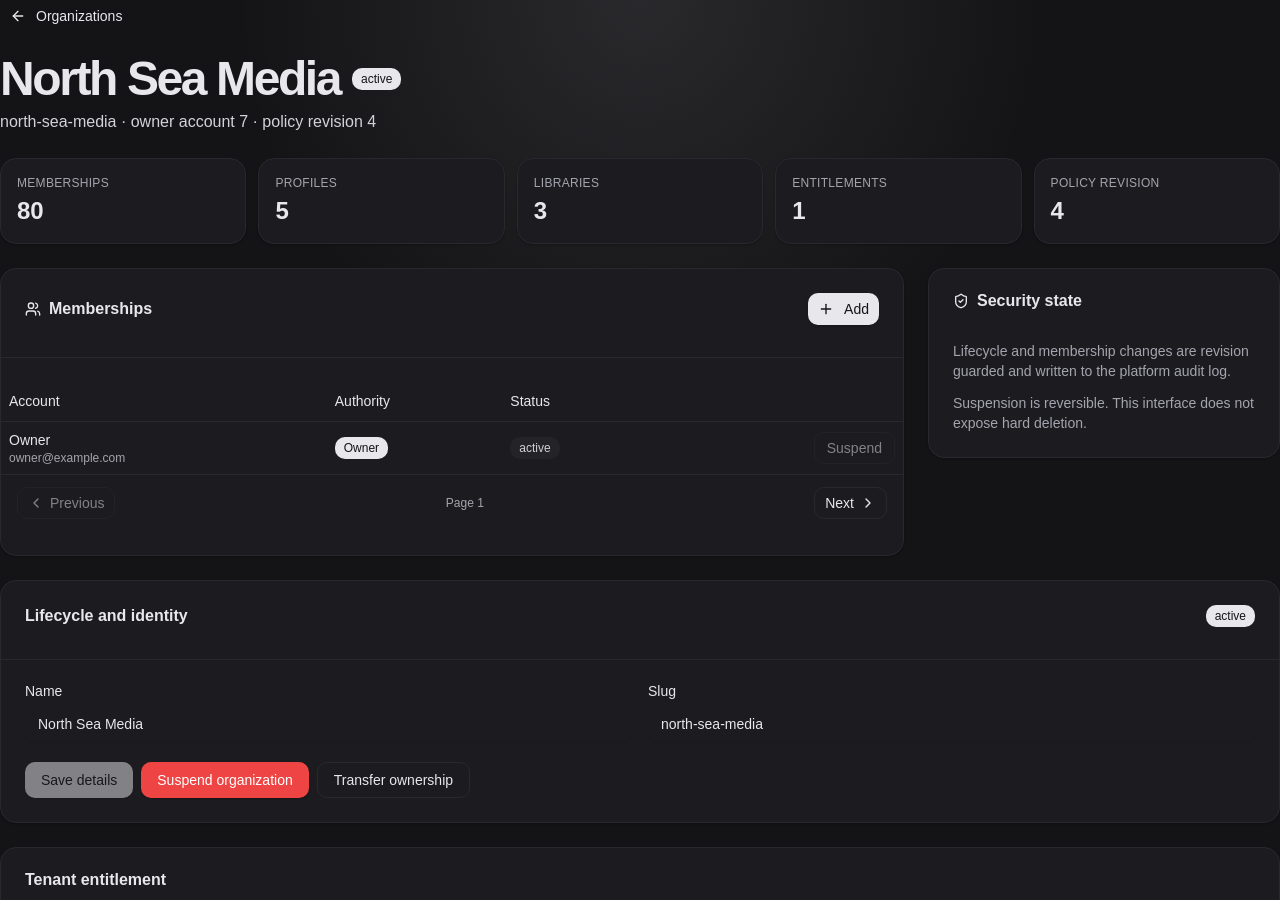
it: OrganizationDetailPage › paginates memberships and uses the exact active count for suspension impact
The width and height of the screenshot is (1280, 900).
Expected: the 1st text "Owner" is shown, [9,432,50,448]
Click the button with aria-label "Next membership page".
click(851, 503)  # box [814,487,887,519]
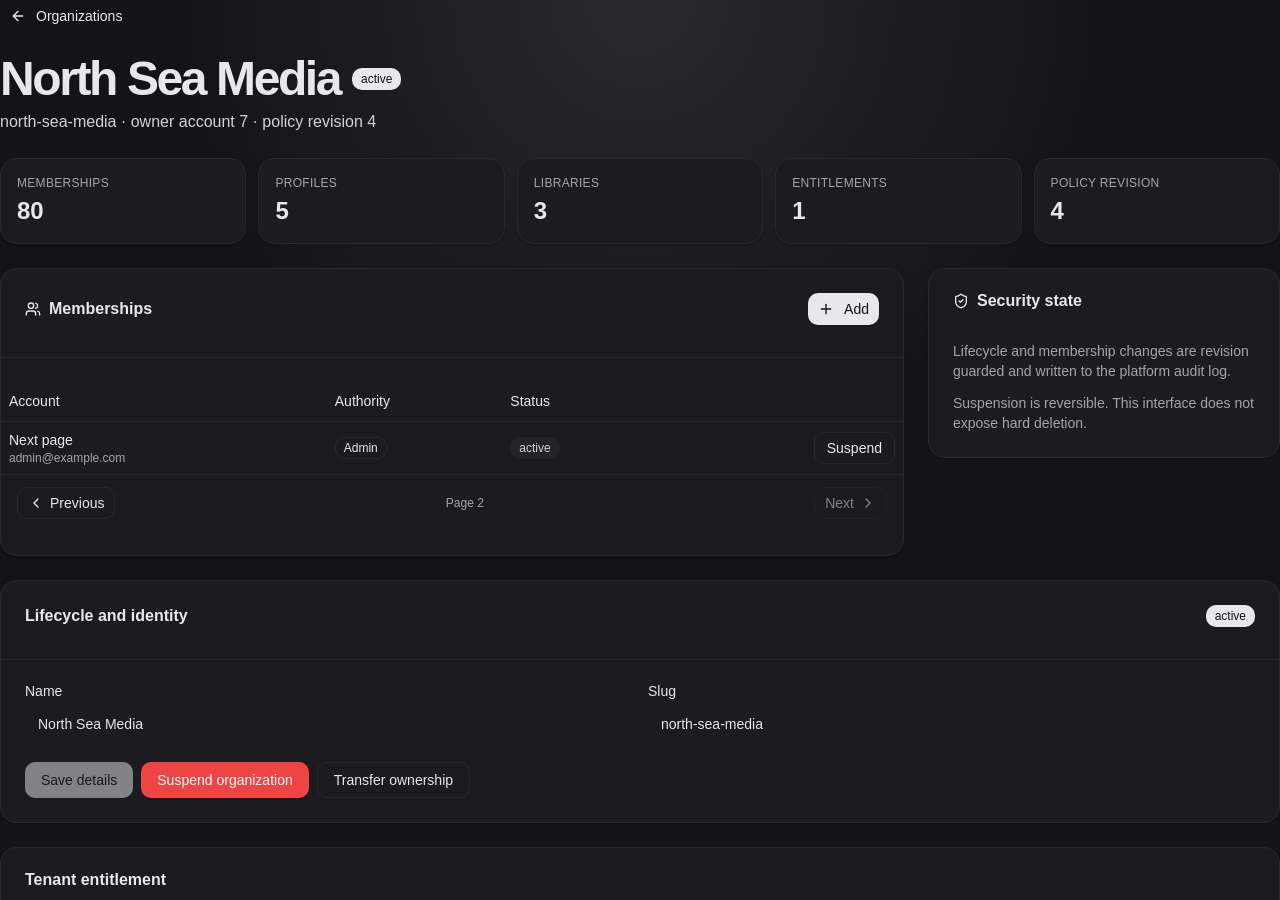
Now the text "Next page" is shown, box [9,432,73,448]
Click the button "Suspend organization".
click(225, 780)  # box [141,762,309,798]
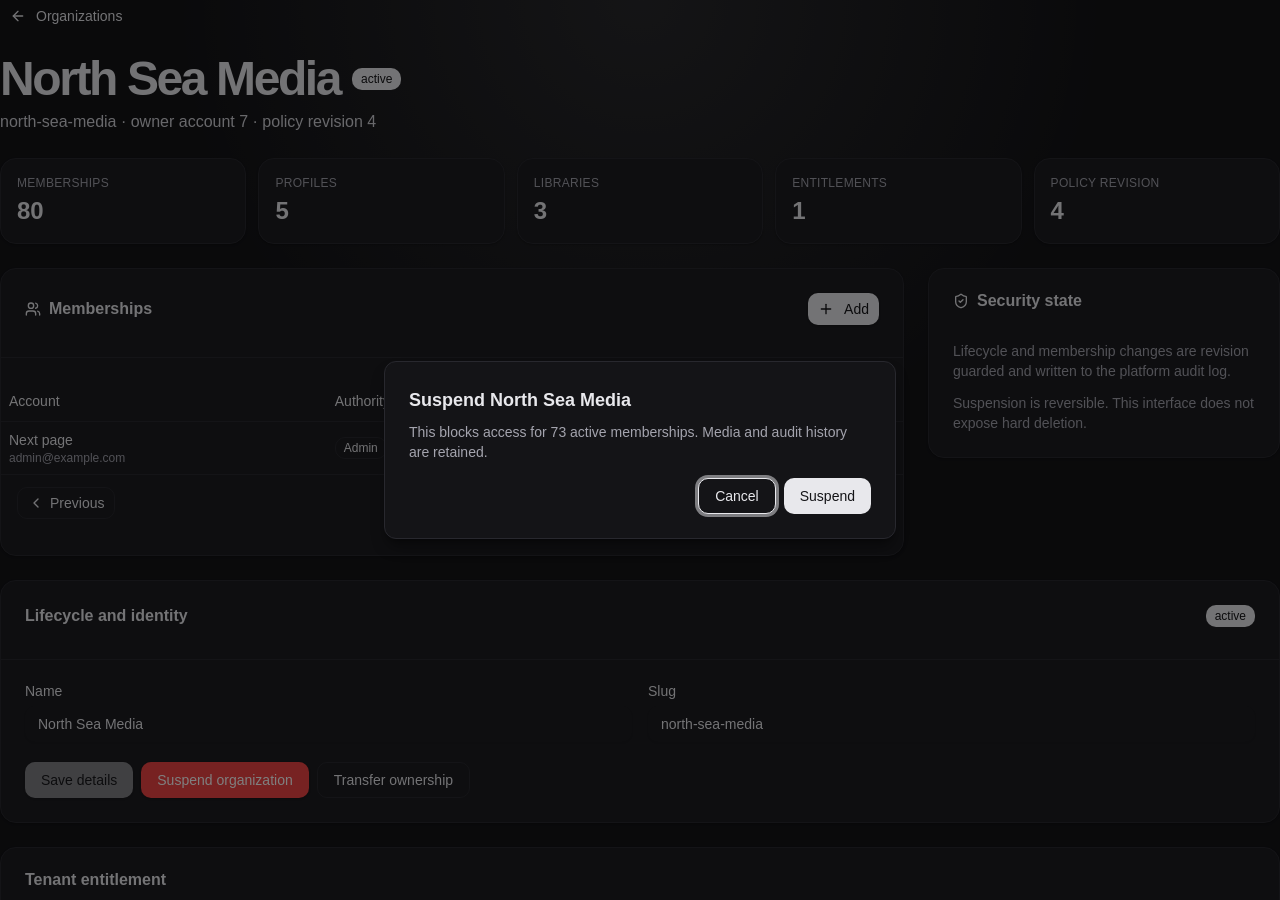
Now the text "73 active memberships" is shown, box [409,424,847,460]
